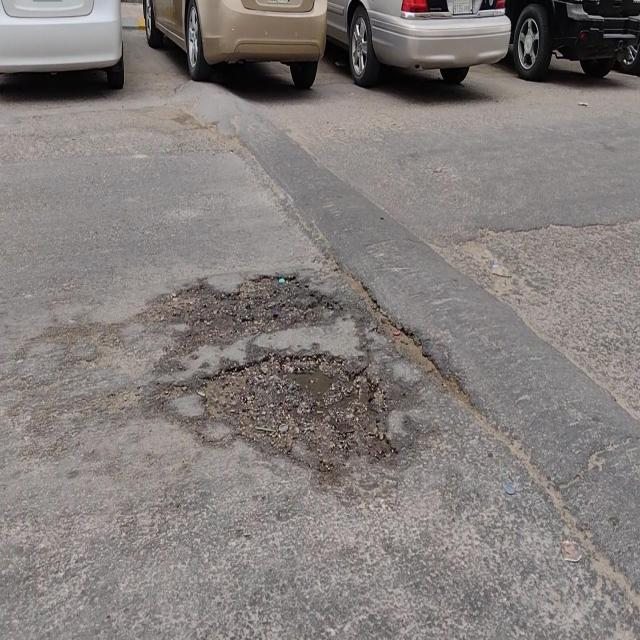Potholes: (203, 348, 399, 464), (163, 275, 333, 364)
